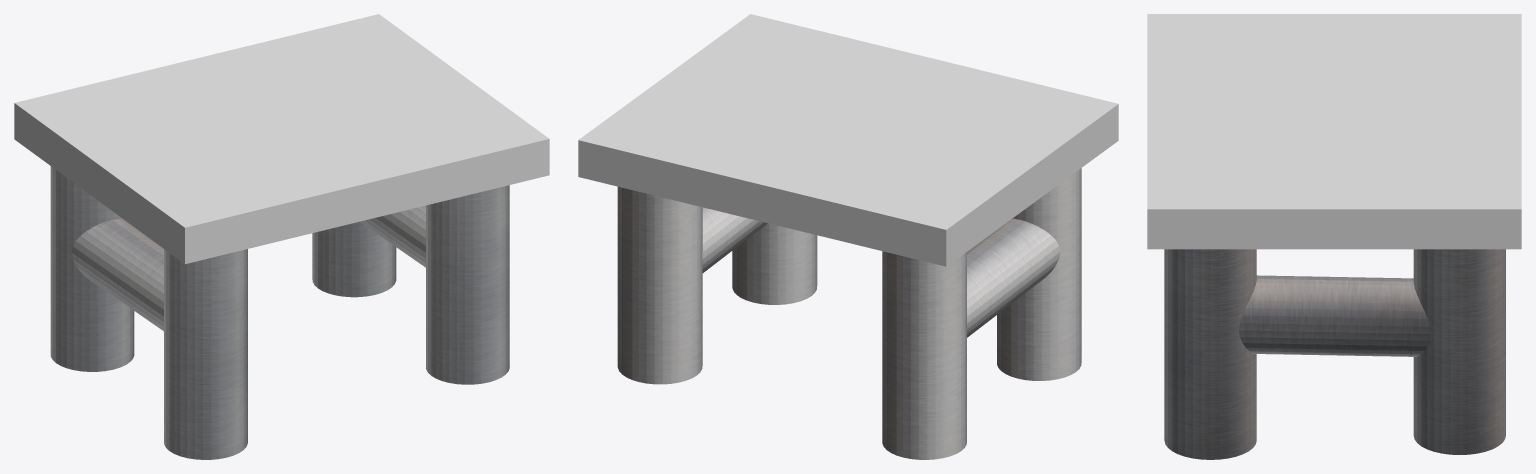
File: table.fbx
3 renders of one model, left to right at view 1: azimuth 30°, elevation 25°; view 2: azimuth 150°, elevation 25°; view 3: azimuth 270°, elevation 25°, orthographic. The views are drawn at different scales.
Visible parts, largest first — view 1: Cube, Cylinder.003, Cylinder.002, Cylinder.001, Cylinder.004, Cylinder, Cylinder.005; view 2: Cube, Cylinder.001, Cylinder, Cylinder.003, Cylinder.004, Cylinder.002, Cylinder.005; view 3: Cube, Cylinder.002, Cylinder, Cylinder.005.
Part boxes in pixels (x1,y1,x2,y2): Cube: (14, 14, 549, 264); Cylinder.003: (164, 249, 247, 459); Cylinder.002: (426, 185, 509, 384); Cylinder.001: (50, 166, 134, 371); Cylinder.004: (71, 219, 163, 331); Cylinder: (312, 221, 396, 297); Cylinder.005: (360, 205, 425, 267); Cube: (578, 14, 1118, 266); Cylinder.001: (882, 251, 966, 459); Cylinder: (617, 186, 702, 384); Cylinder.003: (997, 168, 1081, 380); Cylinder.004: (967, 218, 1060, 337); Cylinder.002: (732, 223, 817, 304); Cylinder.005: (702, 207, 767, 272); Cube: (1147, 14, 1521, 249); Cylinder.002: (1164, 249, 1256, 459); Cylinder: (1413, 249, 1505, 454); Cylinder.005: (1239, 275, 1431, 356).
Bounding box in the file's own units: 1002 × 650 × 812.
